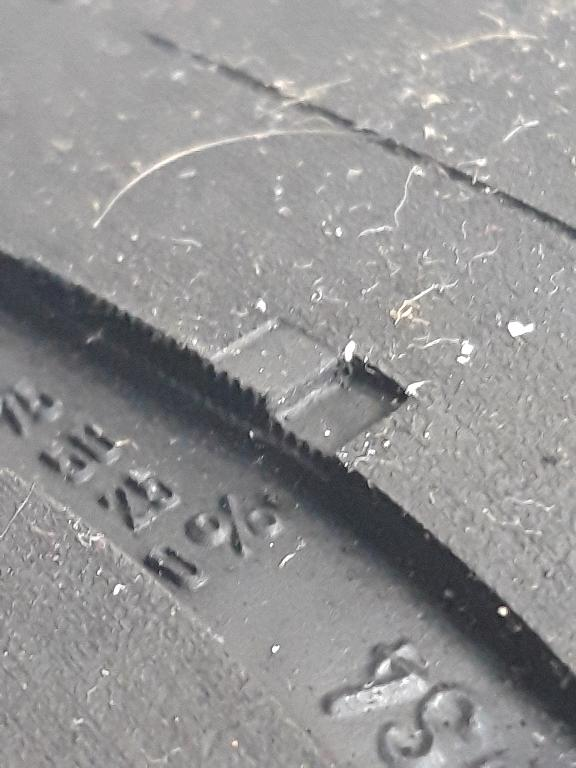temoin:25: (178, 300, 437, 504)
